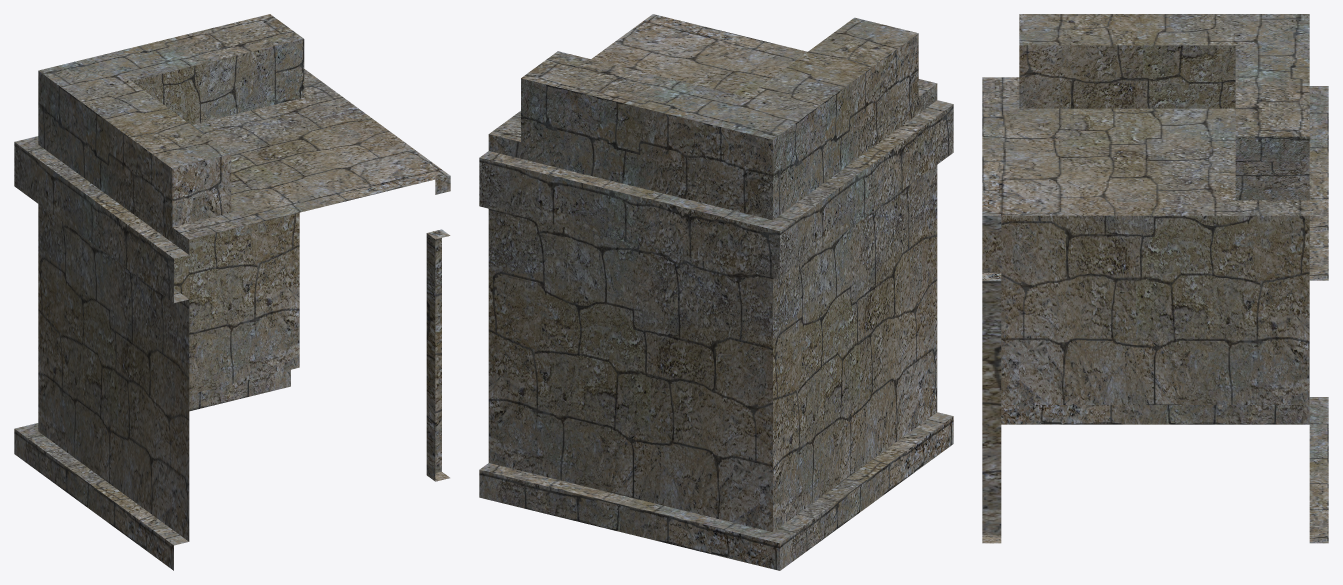
Rendered from Section2.FBX.
3 views of the same model, side by side, from view 1: azimuth 30°, elevation 25°; view 2: azimuth 150°, elevation 25°; view 3: azimuth 270°, elevation 25° (orthographic). The views are drawn at different scales.
Parts seen in each view (by area): view 1: ClaimedCo102NW001; view 2: ClaimedCo102NW001; view 3: ClaimedCo102NW001.
Part boxes in pixels (x1,y1,x2,y2): ClaimedCo102NW001: [14, 14, 450, 570]; ClaimedCo102NW001: [479, 14, 953, 570]; ClaimedCo102NW001: [982, 14, 1328, 543].
Bounding box in the file's own units: 100 × 133 × 100.
